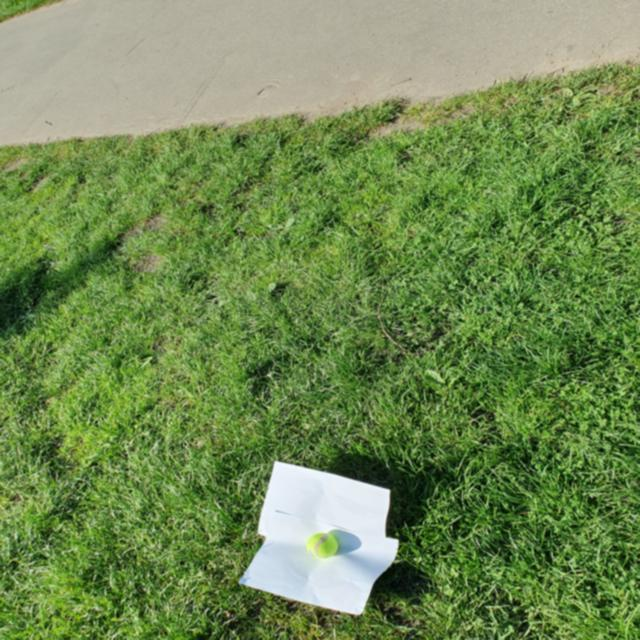green: (306, 532, 338, 558)
